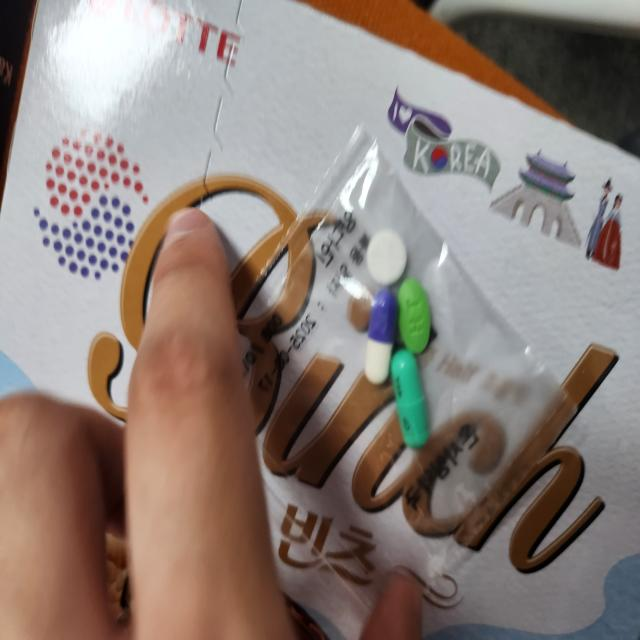러키펜정: (367, 232, 409, 289)
씨엠지세파클러캡슐: (365, 289, 397, 385)
에르도캡슐: (390, 352, 430, 451)
휴티렌정: (394, 275, 434, 357)
